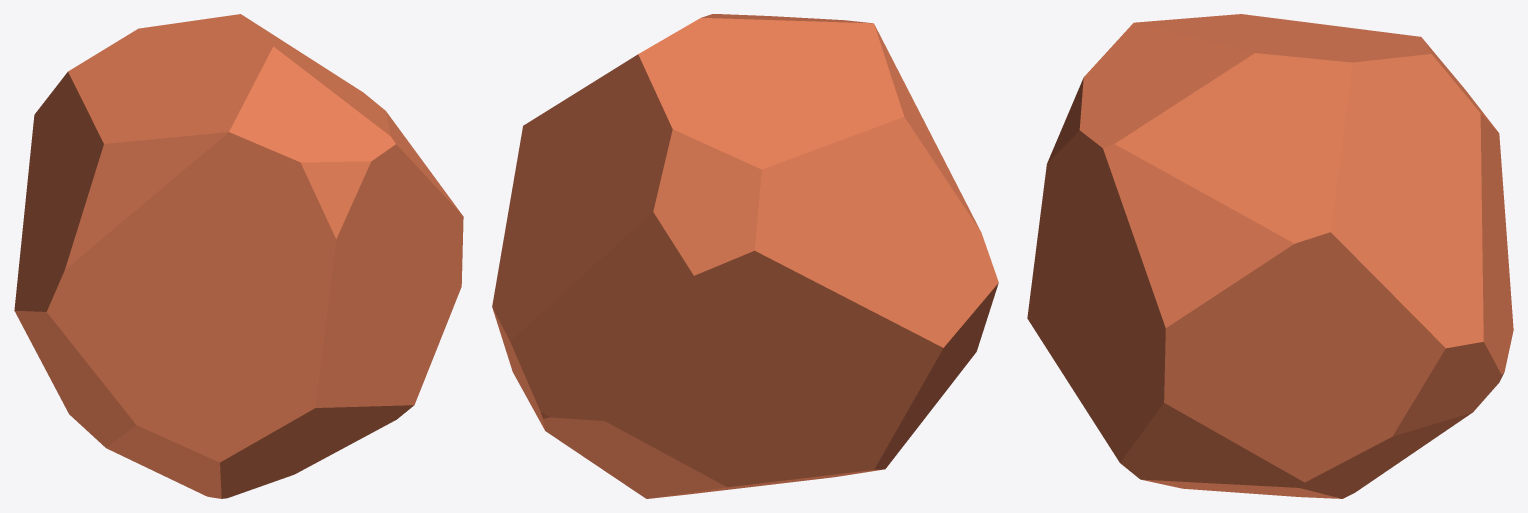
Rendered from Rock_V03.fbx.
The picture shows the model from 3 angles, left to right: view 1: azimuth 30°, elevation 25°; view 2: azimuth 150°, elevation 25°; view 3: azimuth 270°, elevation 25°; orthographic projection. The views are drawn at different scales.
Parts seen in each view (by area): view 1: Rock_03; view 2: Rock_03; view 3: Rock_03.
Part boxes in pixels (box(x1,y1,x2,y2)): Rock_03: box(14, 14, 463, 498); Rock_03: box(492, 14, 998, 498); Rock_03: box(1027, 14, 1513, 498).
Bounding box in the file's own units: 51.65 × 50.89 × 49.86.
